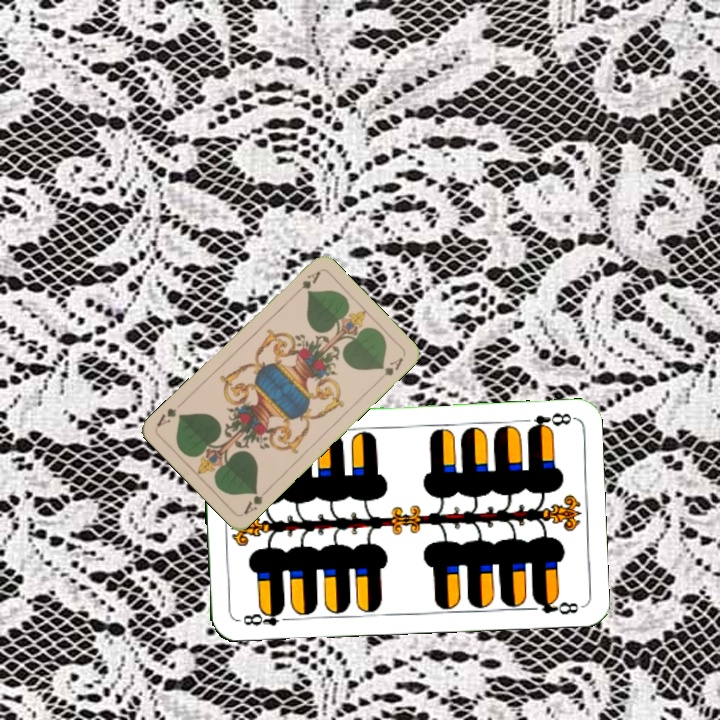E8: (523, 408, 576, 434), (239, 604, 294, 629)
GA: (239, 484, 272, 518), (289, 267, 323, 299)
